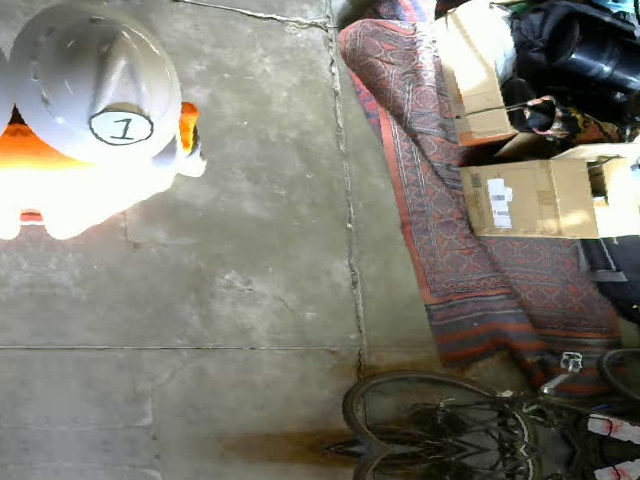one: (86, 109, 154, 145)
